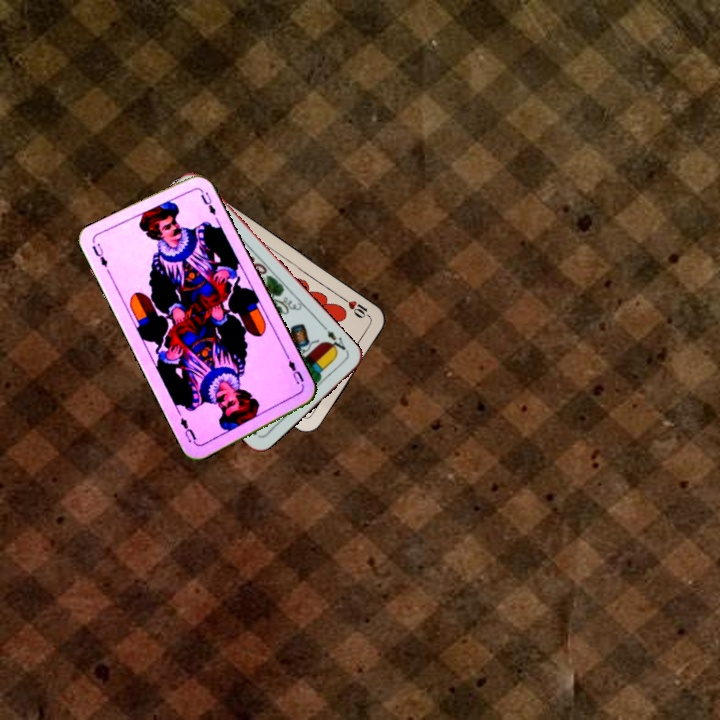EA: (322, 326, 351, 356)
EU: (283, 353, 307, 392), (88, 239, 110, 269)
H10: (337, 293, 373, 321)
